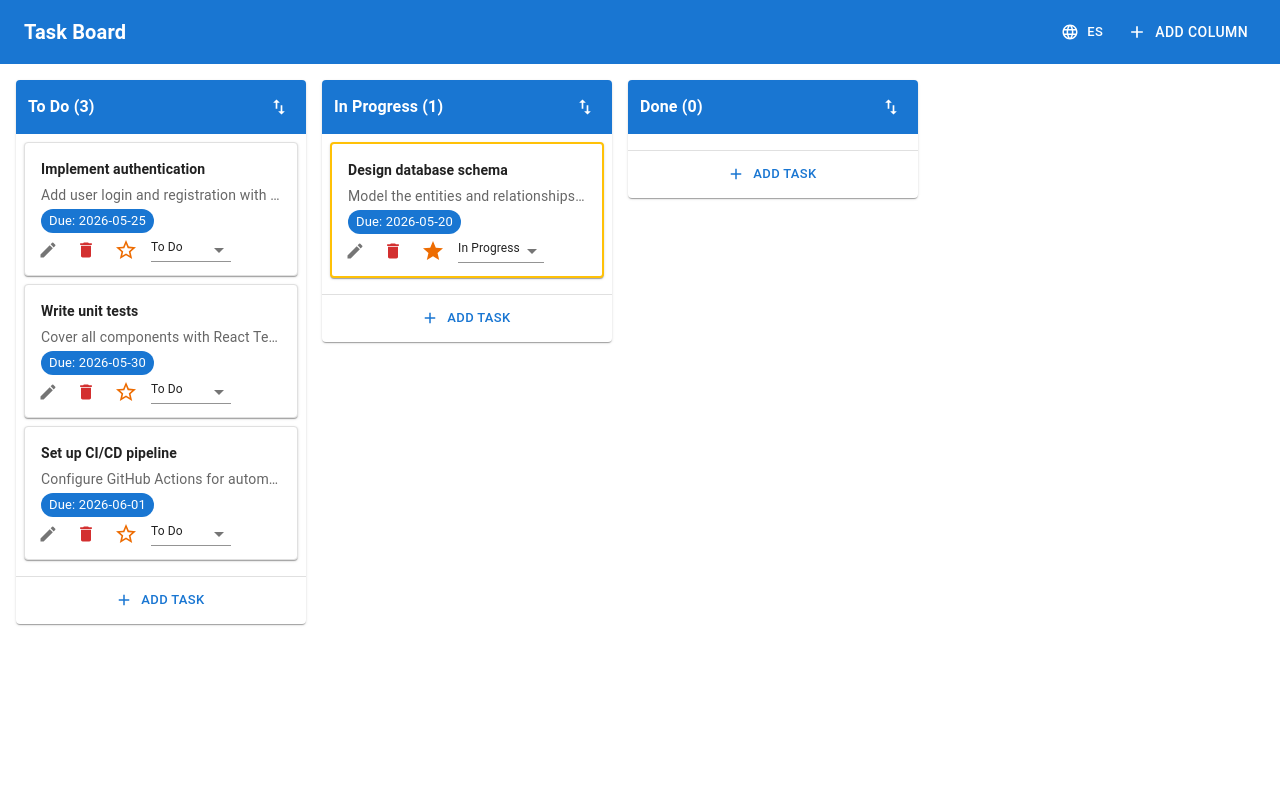
Test: Board › adds a new column and renders it after submission
The image size is (1280, 800).
Click the button with test id "add-column-btn".
click(1190, 32)  # box [1123,14,1256,50]
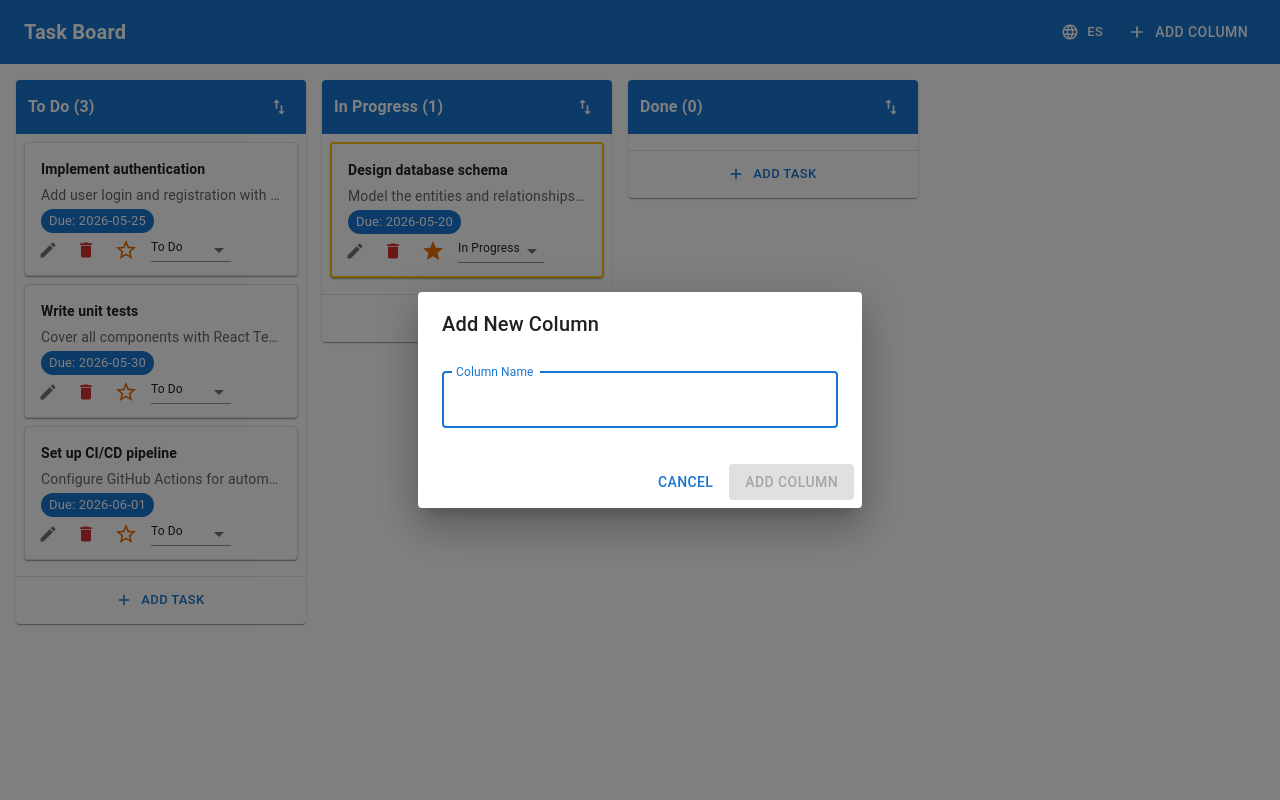
Type "Review" into the field with test id "column-name-input".
click(640, 400); type("Review")  # box [442,372,838,428]
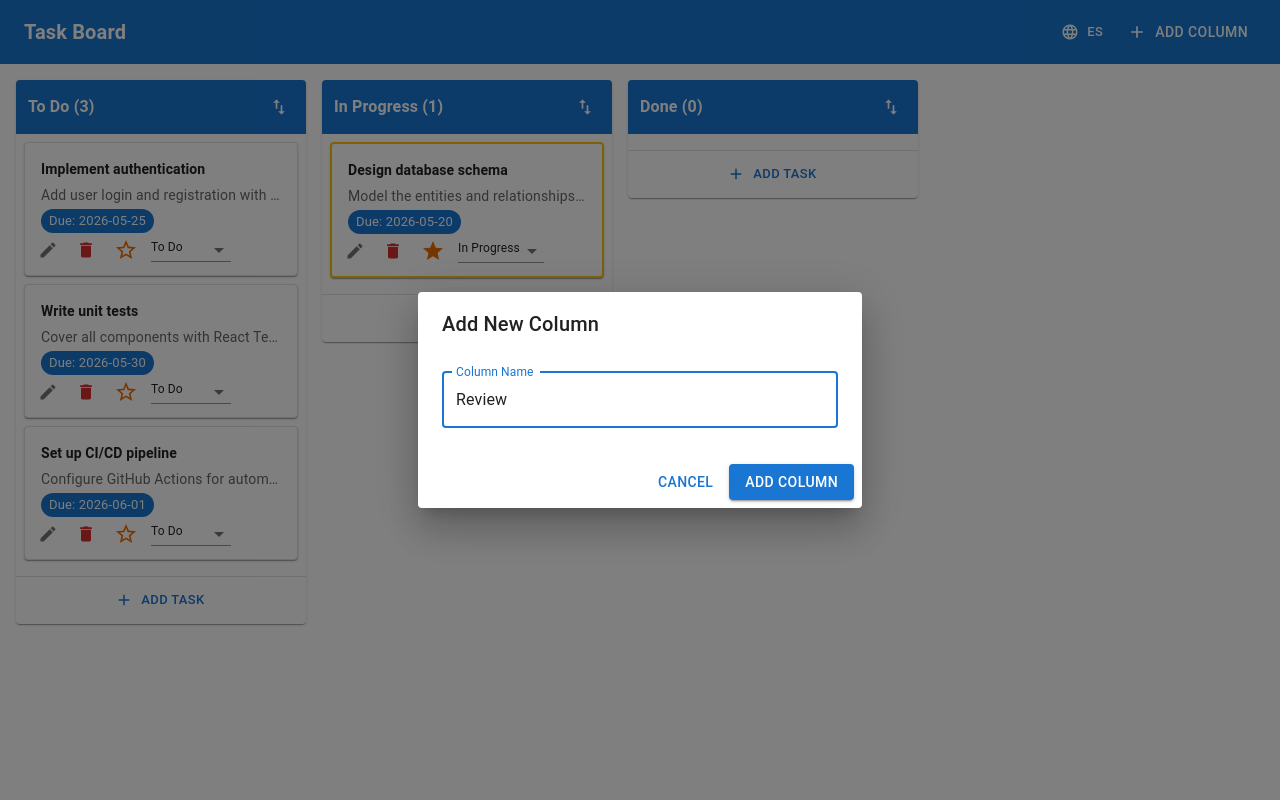
Click the button with test id "add-column-submit-btn".
click(792, 482)  # box [729,464,854,500]
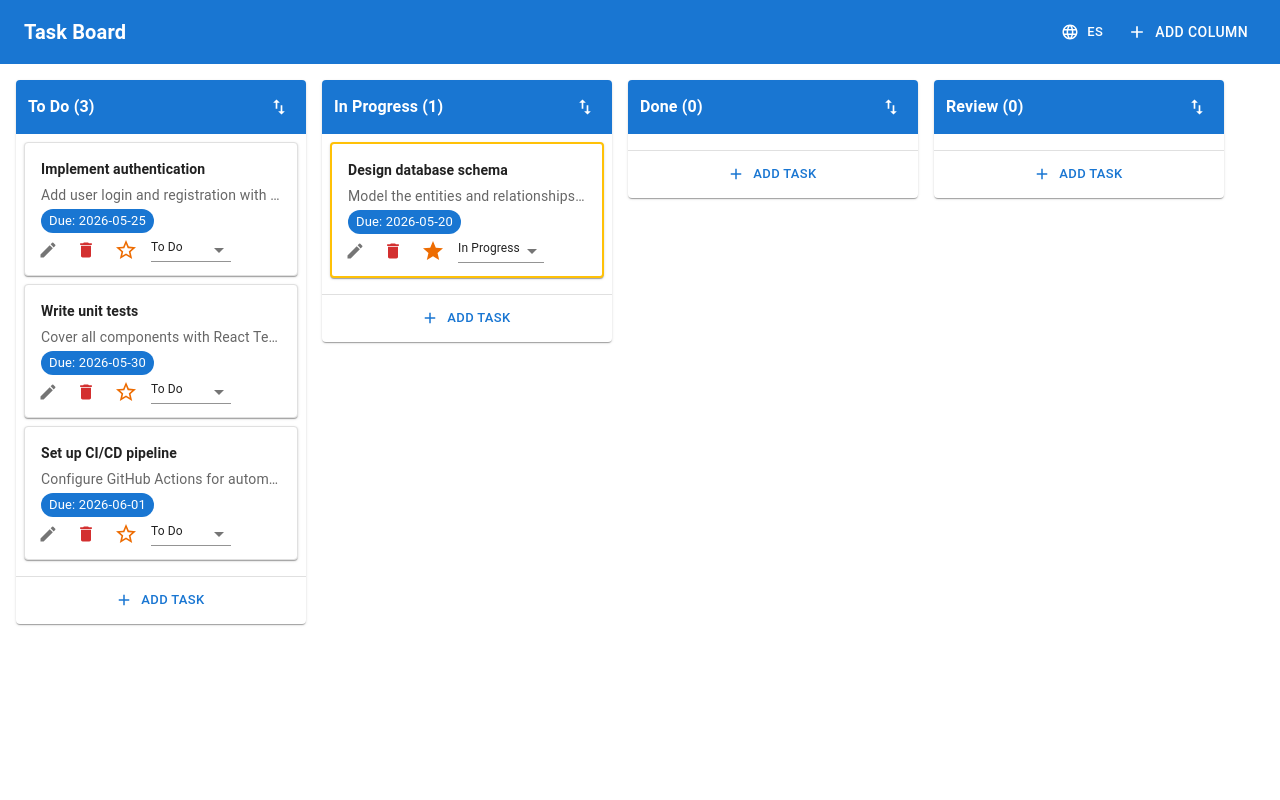
Expected: the heading "Review (0)" is shown, [946,97,1023,116]
